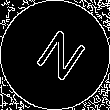N_SW: (24, 23, 86, 87)
